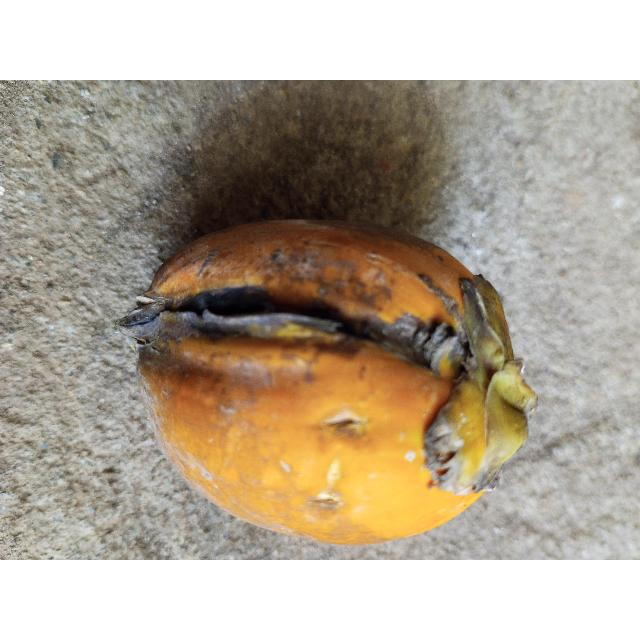damaged: (117, 219, 538, 547)
